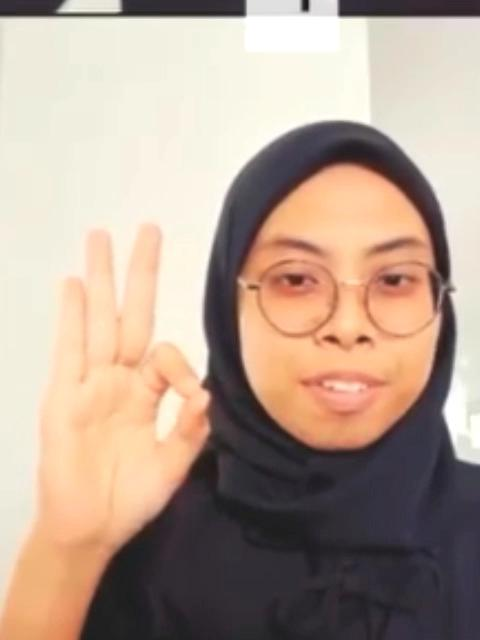F: (37, 216, 219, 546)
